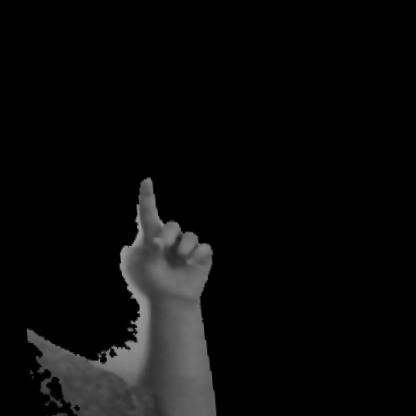one: (42, 143, 286, 372)
